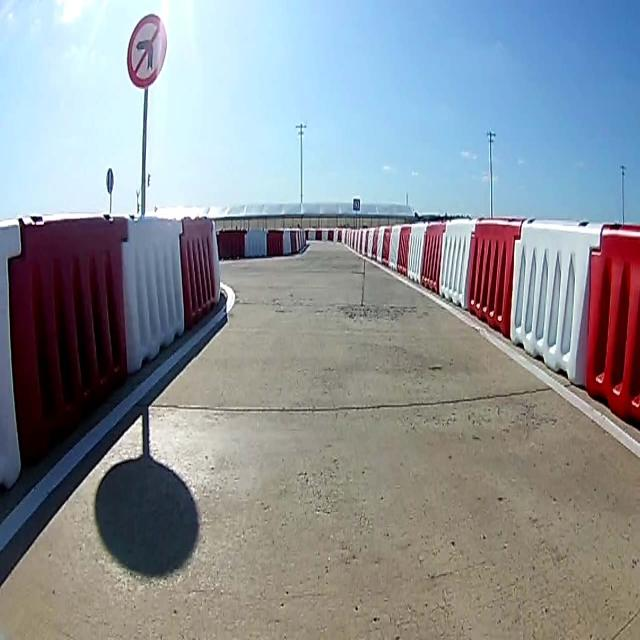soladonulmez: (127, 13, 166, 84)
